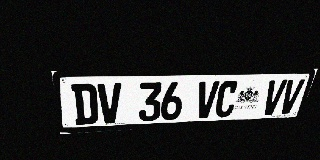3: (139, 82, 162, 122)
6: (160, 82, 185, 121)
C: (214, 81, 240, 118)
D: (71, 83, 98, 125)
V: (194, 81, 220, 119), (97, 83, 121, 124), (260, 80, 288, 115), (277, 79, 305, 114)
